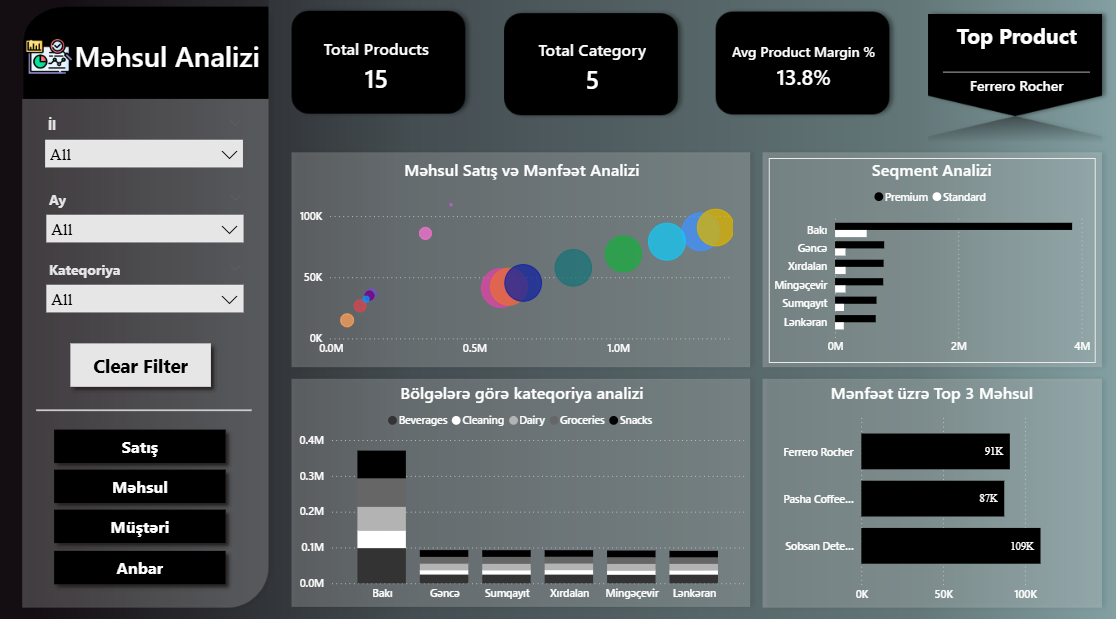

Layout of this report page (visuals, bound fields, positions):
{"tool":"powerbi","page":{"name":"Məhsul","canvas":[1280,720],"ordinal":1},"visuals":[{"type":"textbox","box":[53.1,39.8,276.3,66.4],"z":0},{"type":"image","box":[29,26.5,55.5,79.6],"z":1000},{"type":"slicer","fields":{"Values":["DimDate.MonthName"]},"box":[42.2,214.1,244.9,86.9],"z":2000},{"type":"slicer","fields":{"Values":["DimDate.Year"]},"box":[41,129.1,246.1,91.7],"z":3000},{"type":"actionButton","box":[71.2,386.1,178.6,67.6],"z":4000},{"type":"shape","box":[41,439.1,246.1,65.1],"z":5000},{"type":"actionButton","box":[53.5,484.4,214.1,56.3],"z":6000},{"type":"actionButton","box":[53.5,529.7,214.1,56.3],"z":7000},{"type":"actionButton","box":[53.5,576.3,214.1,56.3],"z":8000},{"type":"actionButton","box":[53.5,623,214.1,56.3],"z":9000},{"type":"cardVisual","fields":{"Data":["Ölçülər.Total Products"]},"box":[329.4,13.3,200.3,129.1],"z":10000},{"type":"cardVisual","fields":{"Data":["Ölçülər.Avg Product Margin %"]},"box":[801.1,7.2,234,142.4],"z":11000},{"type":"cardVisual","title":"Top Product","fields":{"Rows":["DimProduct.ProductName"]},"box":[1072.5,26.5,178.6,135.1],"z":13000},{"type":"slicer","fields":{"Values":["DimProduct.Category"]},"box":[42.2,294.4,244.9,91.7],"z":14000},{"type":"scatterChart","title":"Məhsul Satış və Mənfəət Analizi","fields":{"X":["Ölçülər.Ümumi Satış"],"Y":["Ölçülər.Ümumi Mənfəət"],"Size":["Ölçülər.Ümumi miqdar"],"Series":["DimProduct.ProductName"]},"box":[337.8,183.4,518.8,236.5],"z":15000},{"type":"clusteredBarChart","title":"Seqment Analizi","fields":{"Category":["DimStore.City"],"Series":["DimProduct.Segment"],"Y":["Ölçülər.Ümumi Satış"]},"box":[878.3,183.4,372.8,234],"z":16000},{"type":"cardVisual","fields":{"Data":["Ölçülər.Total Category"]},"box":[573.1,14.5,208.7,129.1],"z":17000},{"type":"lineStackedColumnComboChart","title":"Bölgələrə görə kateqoriya analizi","fields":{"Category":["DimStore.City"],"Series":["DimProduct.Category"],"Y":["Ölçülər.Ümumi miqdar"]},"box":[337.8,439.1,518.8,260.6],"z":18000},{"type":"barChart","title":"Mənfəət üzrə Top 3 Məhsul","fields":{"Y":["Ölçülər.Ümumi Mənfəət"],"Category":["DimProduct.ProductName"]},"box":[878,439,373,261],"z":18001}]}

Visuals, with their boxes in screenshot pixels (x1, y1, x2, y2), scaled from the page's 1280x720 canvas onto the 1116x619 screenshot:
textbox: 46/34/287/91
image: 25/23/74/91
slicer - DimDate.MonthName: 37/184/250/259
slicer - DimDate.Year: 36/111/250/190
actionButton: 62/332/218/390
shape: 36/378/250/433
actionButton: 47/416/233/465
actionButton: 47/455/233/504
actionButton: 47/495/233/544
actionButton: 47/536/233/584
cardVisual - Ölçülər.Total Products: 287/11/462/122
cardVisual - Ölçülər.Avg Product Margin %: 698/6/902/129
"Top Product" cardVisual: 935/23/1091/139
slicer - DimProduct.Category: 37/253/250/332
"Məhsul Satış və Mənfəət Analizi" scatterChart: 295/158/747/361
"Seqment Analizi" clusteredBarChart: 766/158/1091/359
cardVisual - Ölçülər.Total Category: 500/12/682/123
"Bölgələrə görə kateqoriya analizi" lineStackedColumnComboChart: 295/378/747/602
"Mənfəət üzrə Top 3 Məhsul" barChart: 766/377/1091/602
